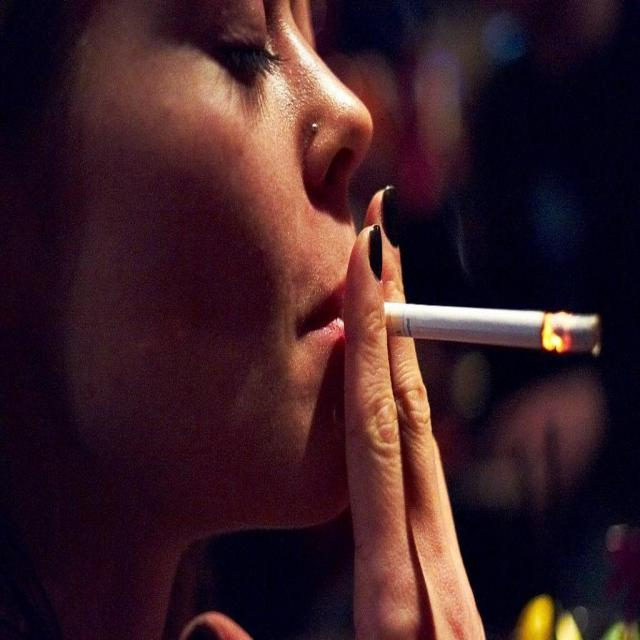Сигарета: (382, 301, 598, 358)
Тело: (98, 0, 480, 640)
